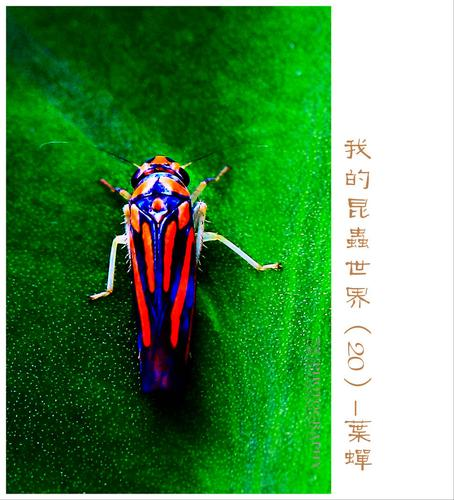Cicadellidae: (90, 156, 280, 415)
